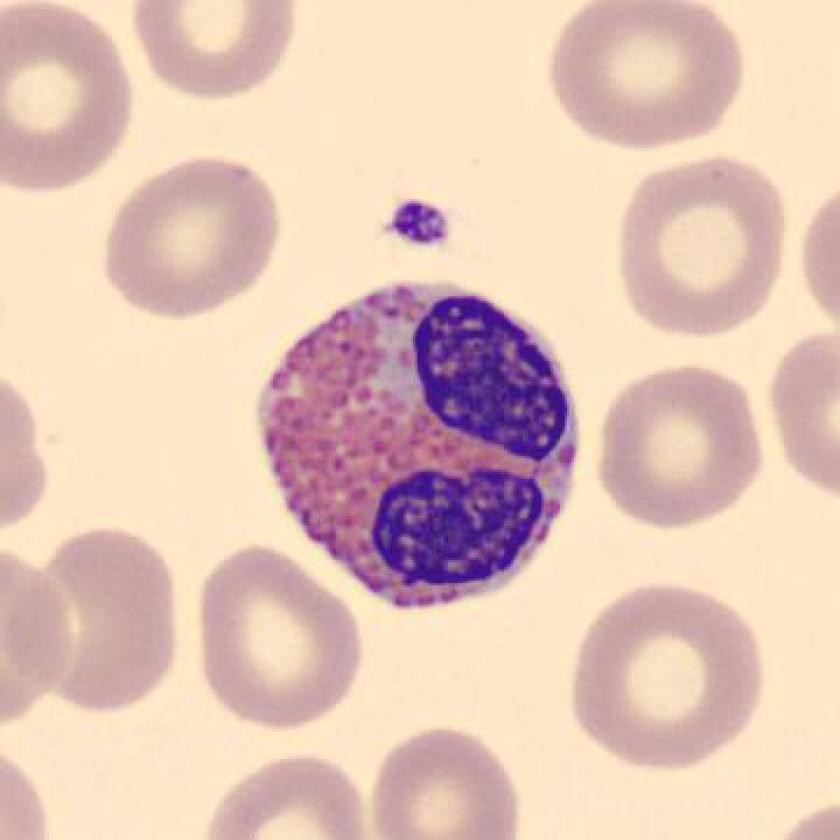eosinophil: (246, 274, 594, 630)
